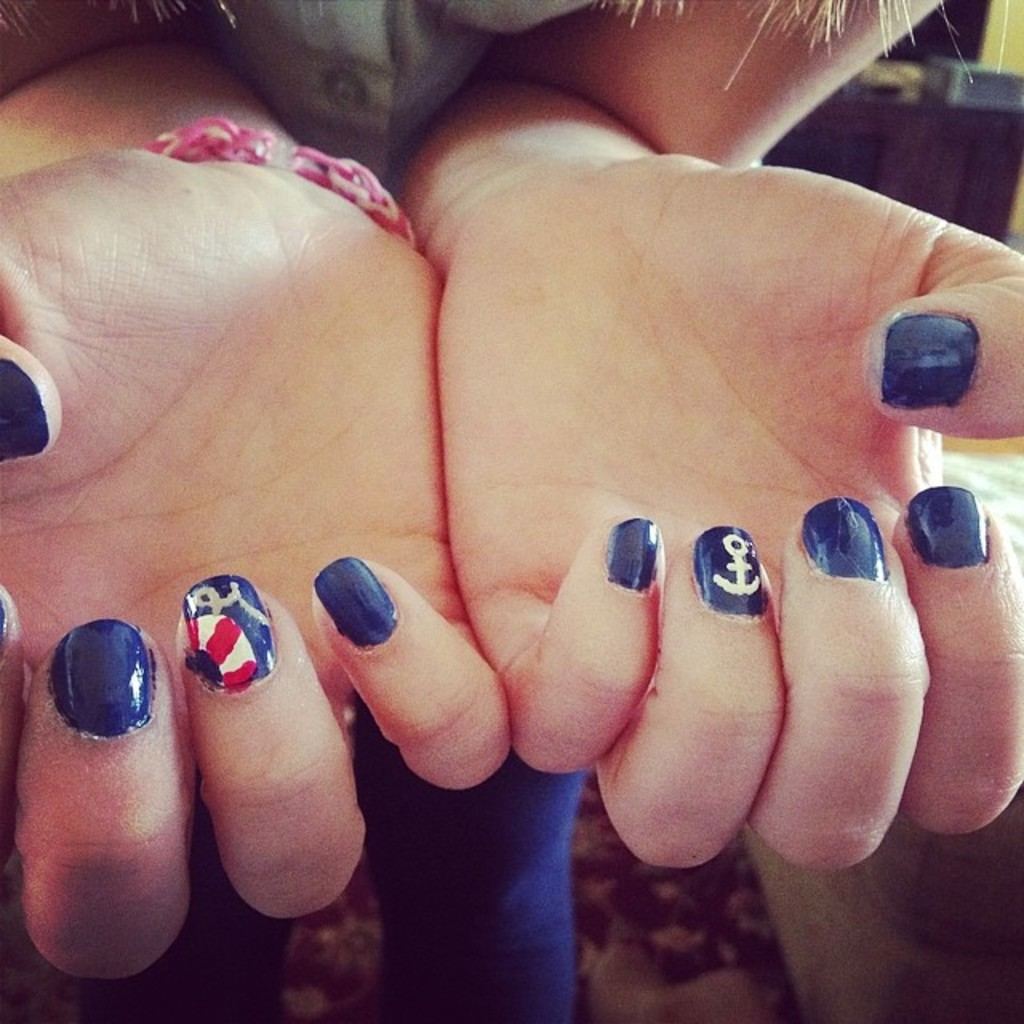Human_hand: (434, 149, 1022, 871), (0, 165, 506, 979)
